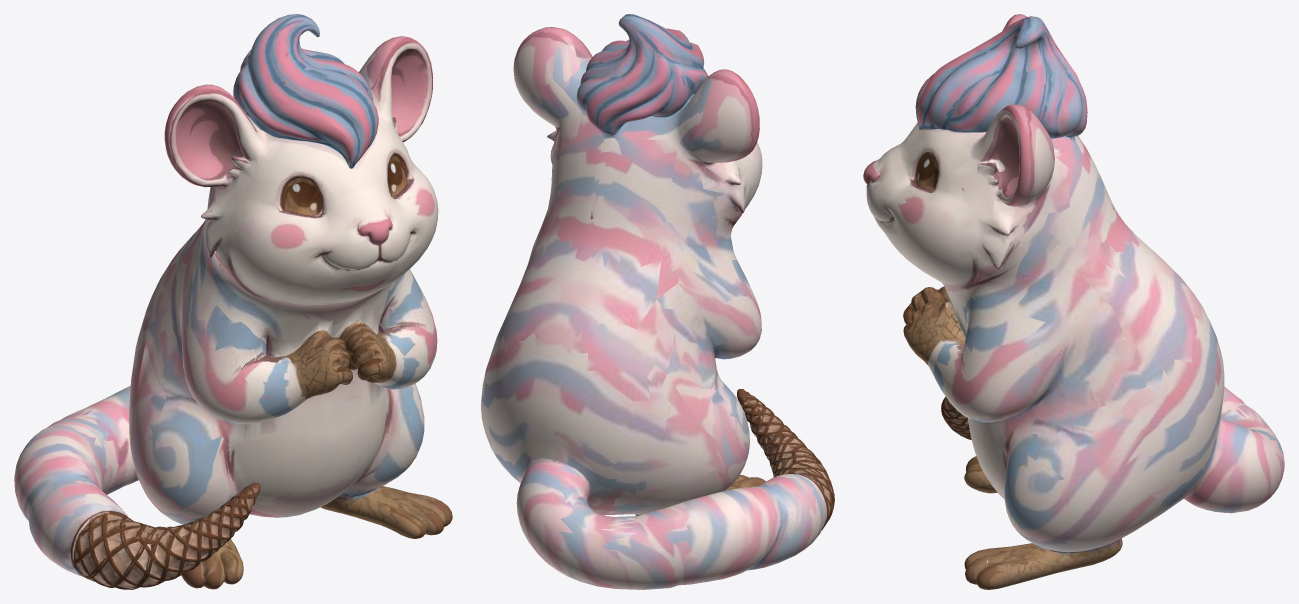
3 views of the same model, side by side, from view 1: azimuth 30°, elevation 25°; view 2: azimuth 150°, elevation 25°; view 3: azimuth 270°, elevation 25° (orthographic). The views are drawn at different scales.
Visible parts, largest first — view 1: Mesh_0; view 2: Mesh_0; view 3: Mesh_0.
Part boxes in pixels (<box>): Mesh_0: <box>14,14,452,589</box>; Mesh_0: <box>481,14,834,589</box>; Mesh_0: <box>863,14,1284,589</box>.
Bounding box in the file's own units: 1.36 × 1.9 × 1.42.
1 material, 1 textured.
